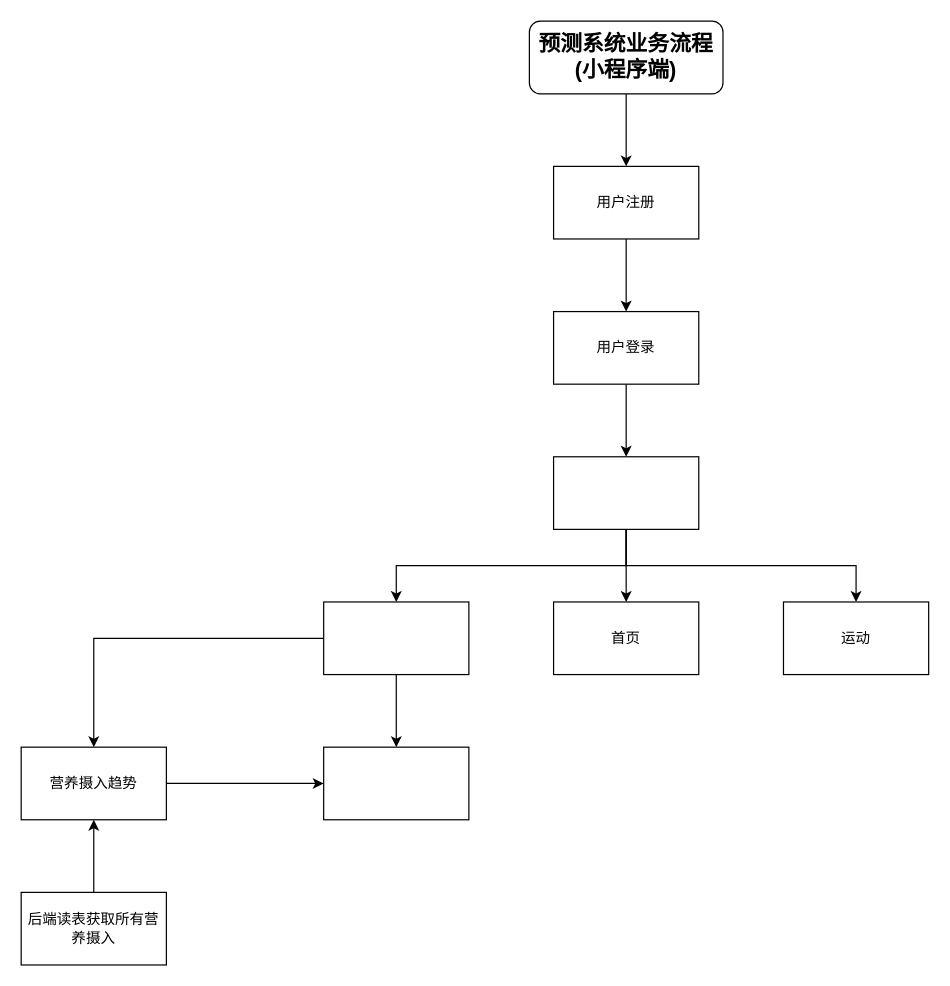
Some shapes in this 950 by 986 pixel diagram are drawn without their labels. The centre of each missing label's shape, as x and y in pixels:
"填写个人信息" belongs at (625,492).
"当日能量摄入 calory" belongs at (395,783).
"饮食" belongs at (395,638).
